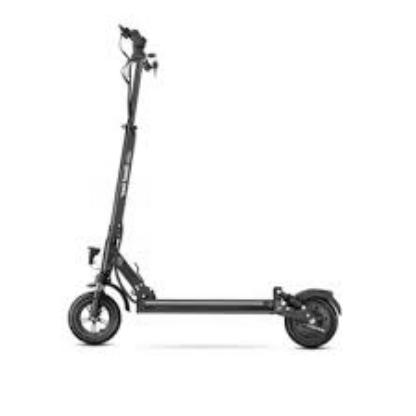bike: (67, 245, 342, 350)
